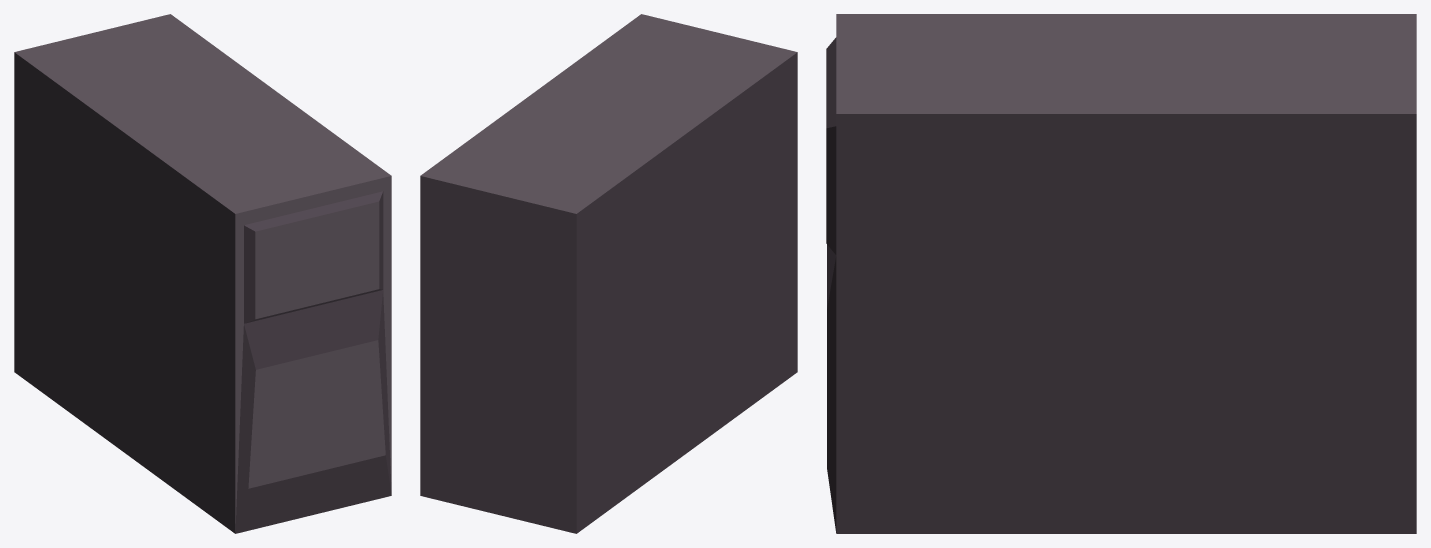
The model's file is Computer Tower.fbx.
3 renders of one model, left to right at view 1: azimuth 30°, elevation 25°; view 2: azimuth 150°, elevation 25°; view 3: azimuth 270°, elevation 25°, orthographic. The views are drawn at different scales.
Visible parts, largest first — view 1: Computer Tower; view 2: Computer Tower; view 3: Computer Tower.
Part boxes in pixels (x1,y1,x2,y2): Computer Tower: (14, 14, 391, 533); Computer Tower: (420, 14, 797, 533); Computer Tower: (826, 14, 1416, 533).
Size of the model in its own units: 45.58 by 89.16 by 114.
